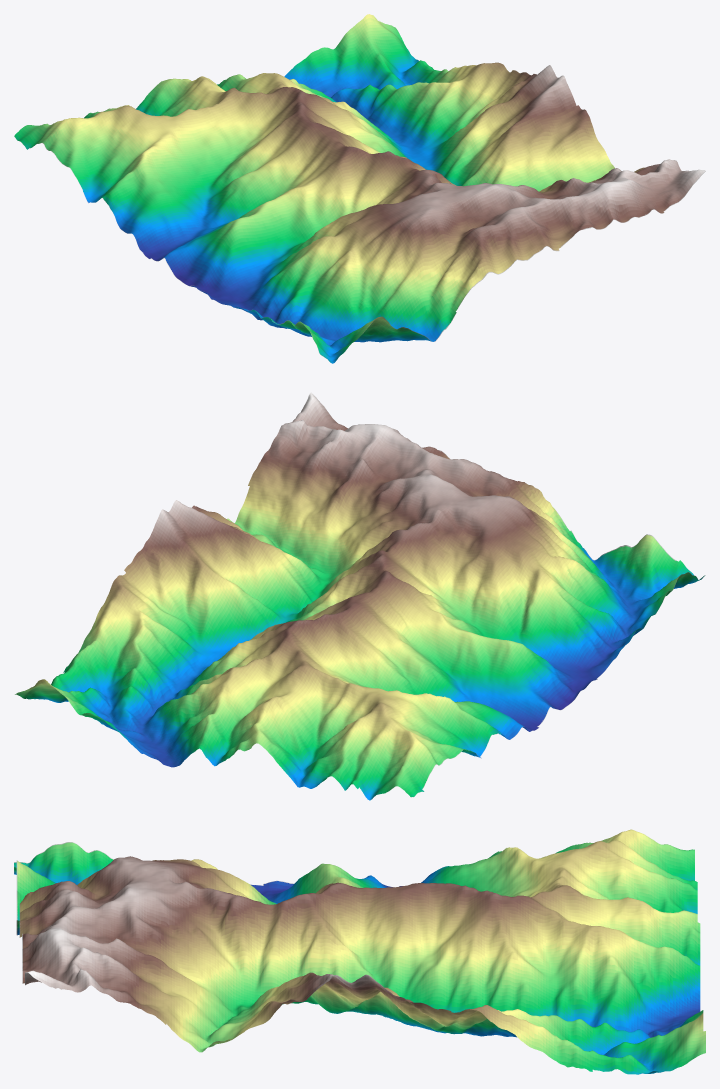
The model's file is terrain.obj.
The picture shows the model from 3 angles, top to bottom: view 1: azimuth 30°, elevation 25°; view 2: azimuth 150°, elevation 25°; view 3: azimuth 270°, elevation 25°; orthographic projection. The views are drawn at different scales.
Bounding box in the file's own units: 186 × 51.87 × 250.
1 material, 1 textured.
